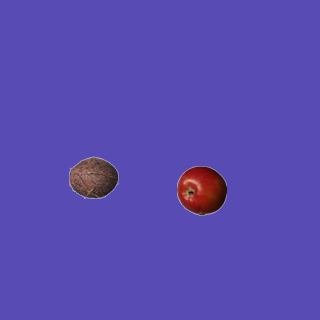Apple Braeburn: (176, 165, 226, 215)
Cocos: (68, 152, 118, 202)
